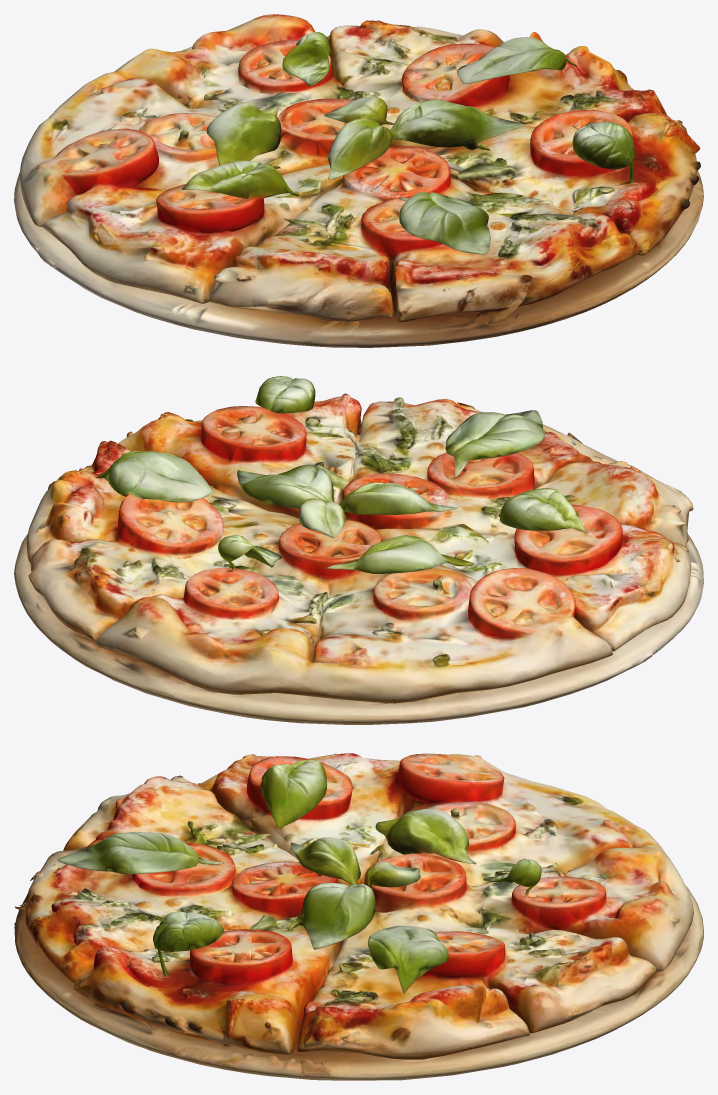
Rendered from pizza.glb.
3 renders of one model, top to bottom at view 1: azimuth 30°, elevation 25°; view 2: azimuth 150°, elevation 25°; view 3: azimuth 270°, elevation 25°, orthographic.
Visible parts, largest first — view 1: tripo_node_e95a977c-14a2-4c82-85fa-a2d4978df69d; view 2: tripo_node_e95a977c-14a2-4c82-85fa-a2d4978df69d; view 3: tripo_node_e95a977c-14a2-4c82-85fa-a2d4978df69d.
Part boxes in pixels (x1,y1,x2,y2): tripo_node_e95a977c-14a2-4c82-85fa-a2d4978df69d: (14,14,703,347); tripo_node_e95a977c-14a2-4c82-85fa-a2d4978df69d: (14,376,703,724); tripo_node_e95a977c-14a2-4c82-85fa-a2d4978df69d: (14,753,703,1080).
Bounding box in the file's own units: 0.3399 × 0.0568 × 0.3394.
1 material, 1 textured.
